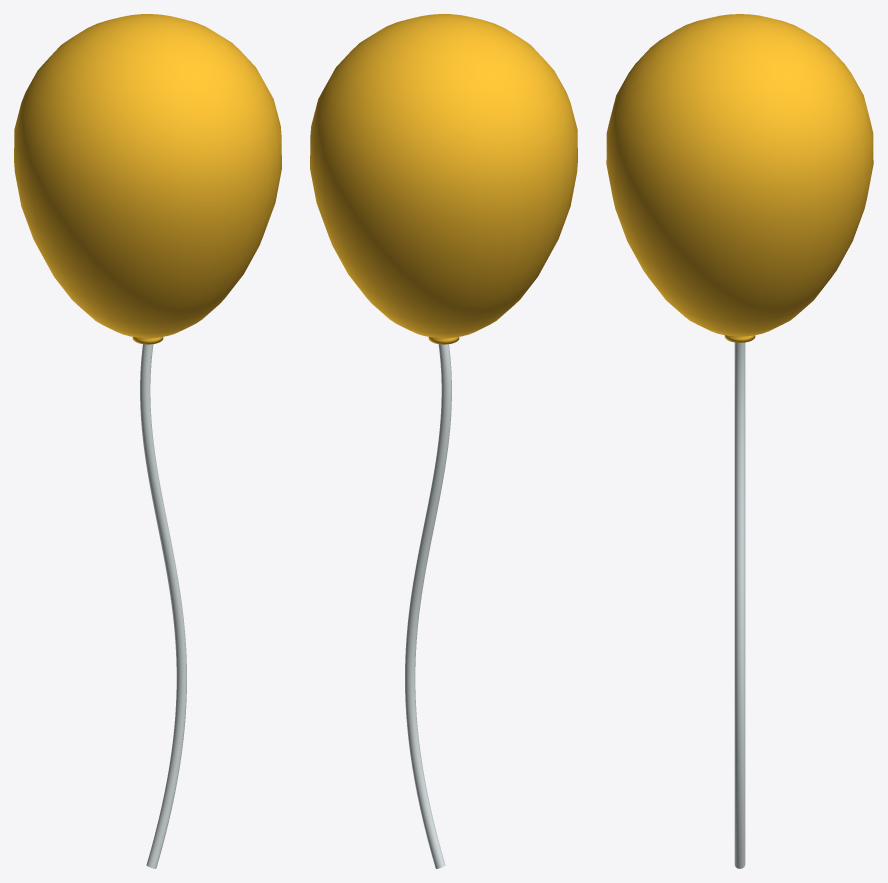
The model's file is Balon Kuning.fbx.
3 views of the same model, side by side, from view 1: azimuth 30°, elevation 25°; view 2: azimuth 150°, elevation 25°; view 3: azimuth 270°, elevation 25° (orthographic).
Parts seen in each view (by area): view 1: Sphere.004, NurbsPath.003; view 2: Sphere.004, NurbsPath.003; view 3: Sphere.004, NurbsPath.003.
Boxes of the visible parts, box(x1,y1,x2,y2) form: Sphere.004: box(14, 14, 281, 344); NurbsPath.003: box(140, 344, 186, 868); Sphere.004: box(310, 14, 577, 344); NurbsPath.003: box(405, 344, 451, 868); Sphere.004: box(606, 14, 873, 342); NurbsPath.003: box(734, 342, 745, 868).
Size of the model in its own units: 62.72 by 217 by 62.72.
